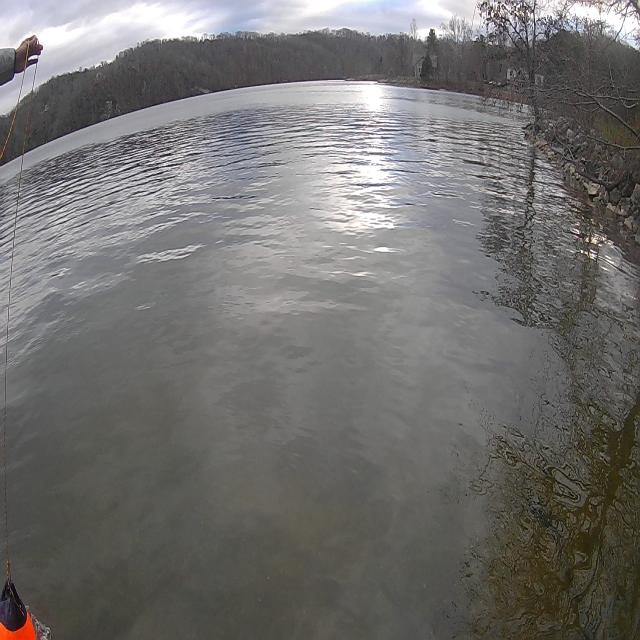Buoy: (0, 564, 41, 640)
